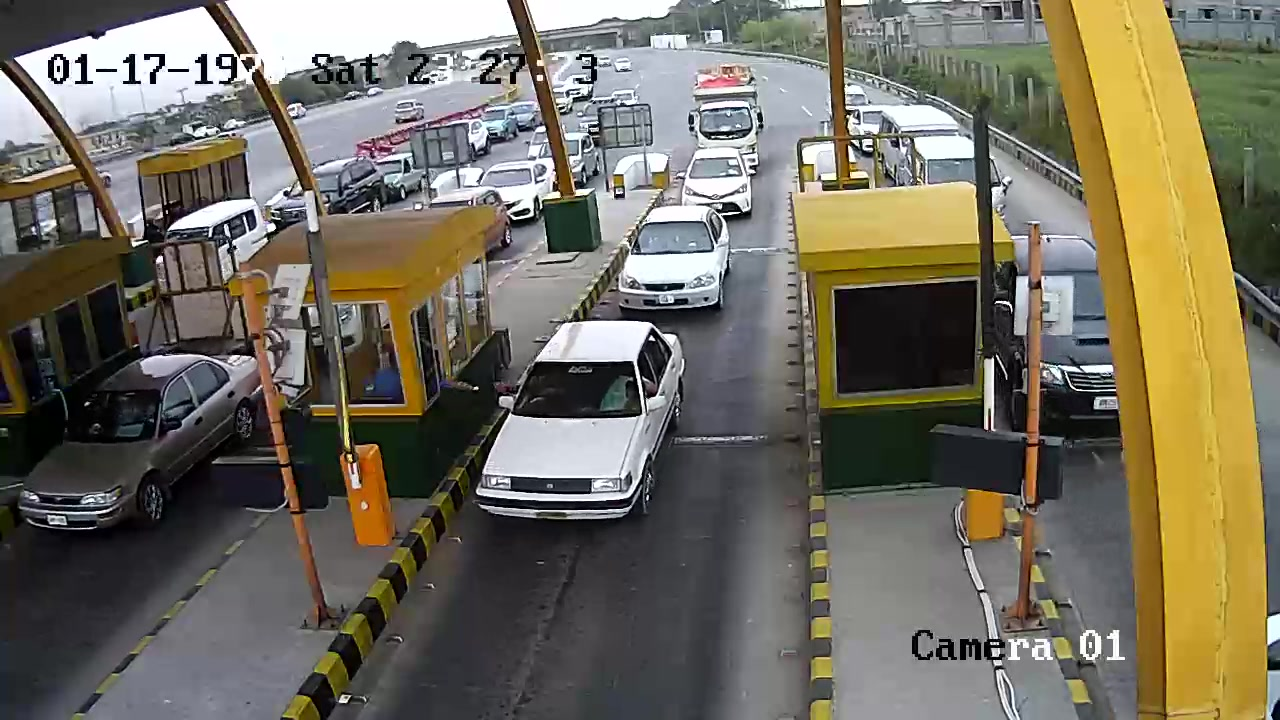F1: (483, 320, 692, 541), (600, 206, 751, 322)
